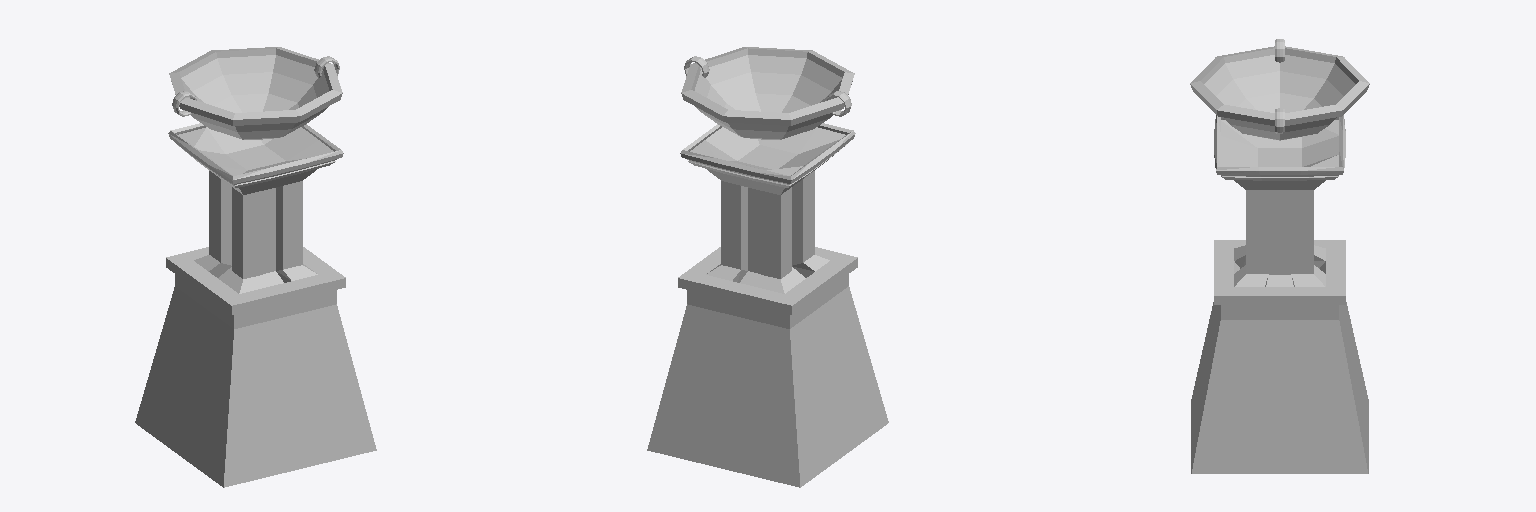
File: WOH_Asset_Brazier.obj
The picture shows the model from 3 angles: view 1: azimuth 30°, elevation 25°; view 2: azimuth 150°, elevation 25°; view 3: azimuth 270°, elevation 25°; orthographic projection.
Visible parts, largest first — view 1: WOH_Asset_Brazier_WOH_Asset_Brazier_Export; view 2: WOH_Asset_Brazier_WOH_Asset_Brazier_Export; view 3: WOH_Asset_Brazier_WOH_Asset_Brazier_Export.
Part boxes in pixels (left/top/right/bottom): WOH_Asset_Brazier_WOH_Asset_Brazier_Export: left=135, top=47, right=376, bottom=487; WOH_Asset_Brazier_WOH_Asset_Brazier_Export: left=647, top=47, right=888, bottom=487; WOH_Asset_Brazier_WOH_Asset_Brazier_Export: left=1190, top=39, right=1369, bottom=473.
Bounding box in the file's own units: 2.46 × 5.16 × 2.33.